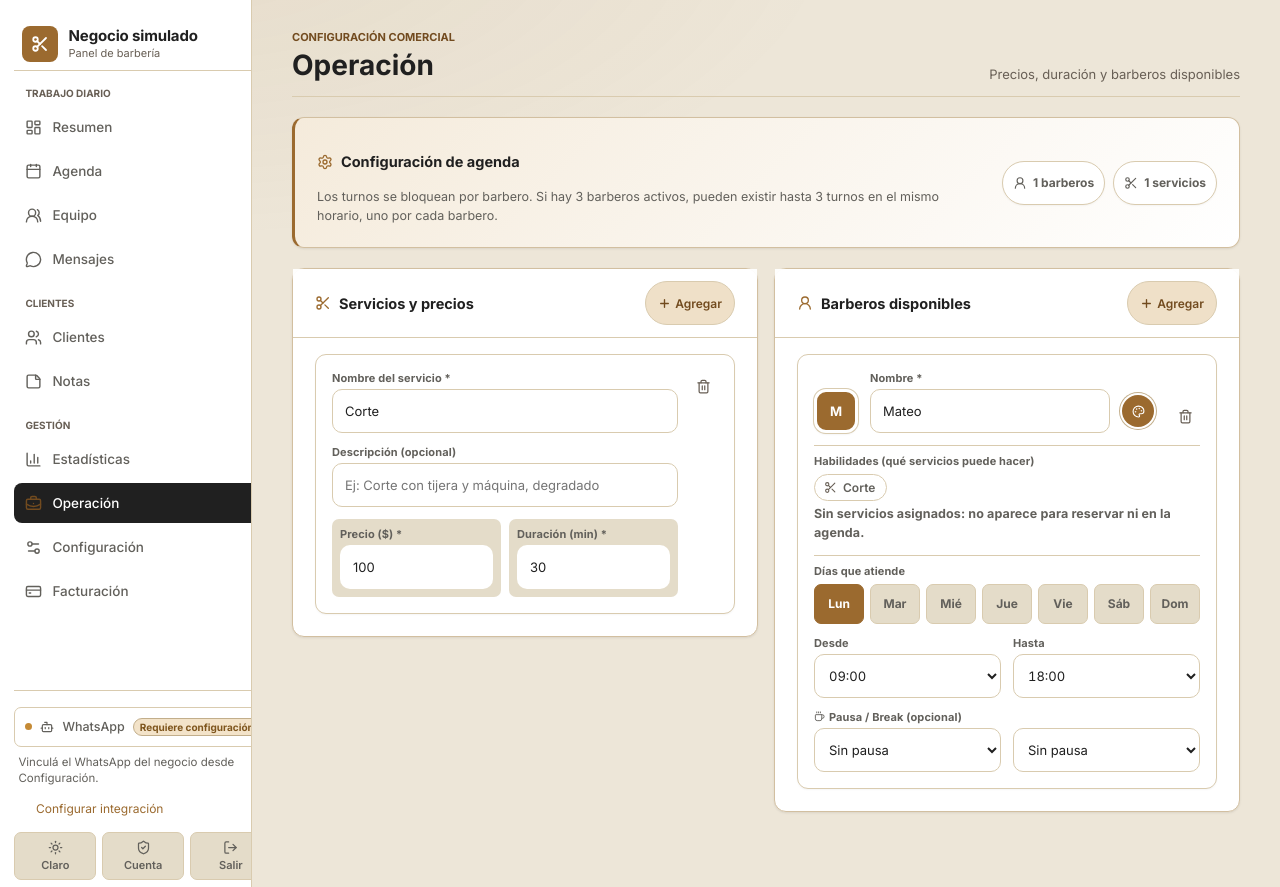
Test: Operación: rollback por campo y resultado confirmado › un nombre rechazado no revierte un precio guardado mientras tanto
The width and height of the screenshot is (1280, 887).
Replace the text in the field labelled "Nombre del servicio *" with "Nombre rechazado": (505,412) [332, 390, 678, 434]
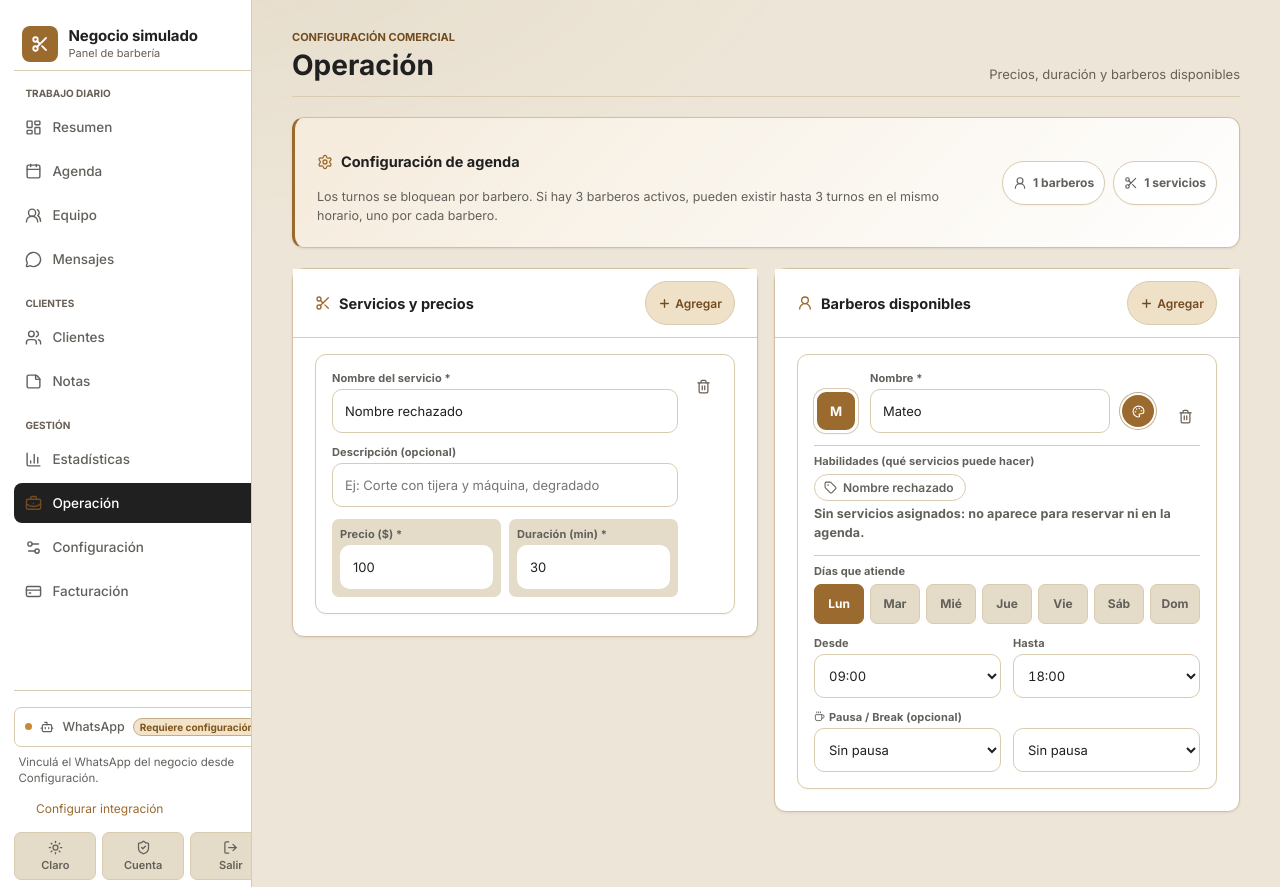
Replace the text in the number field labelled "Precio ($) *" with "300": (416,568) [340, 546, 493, 590]
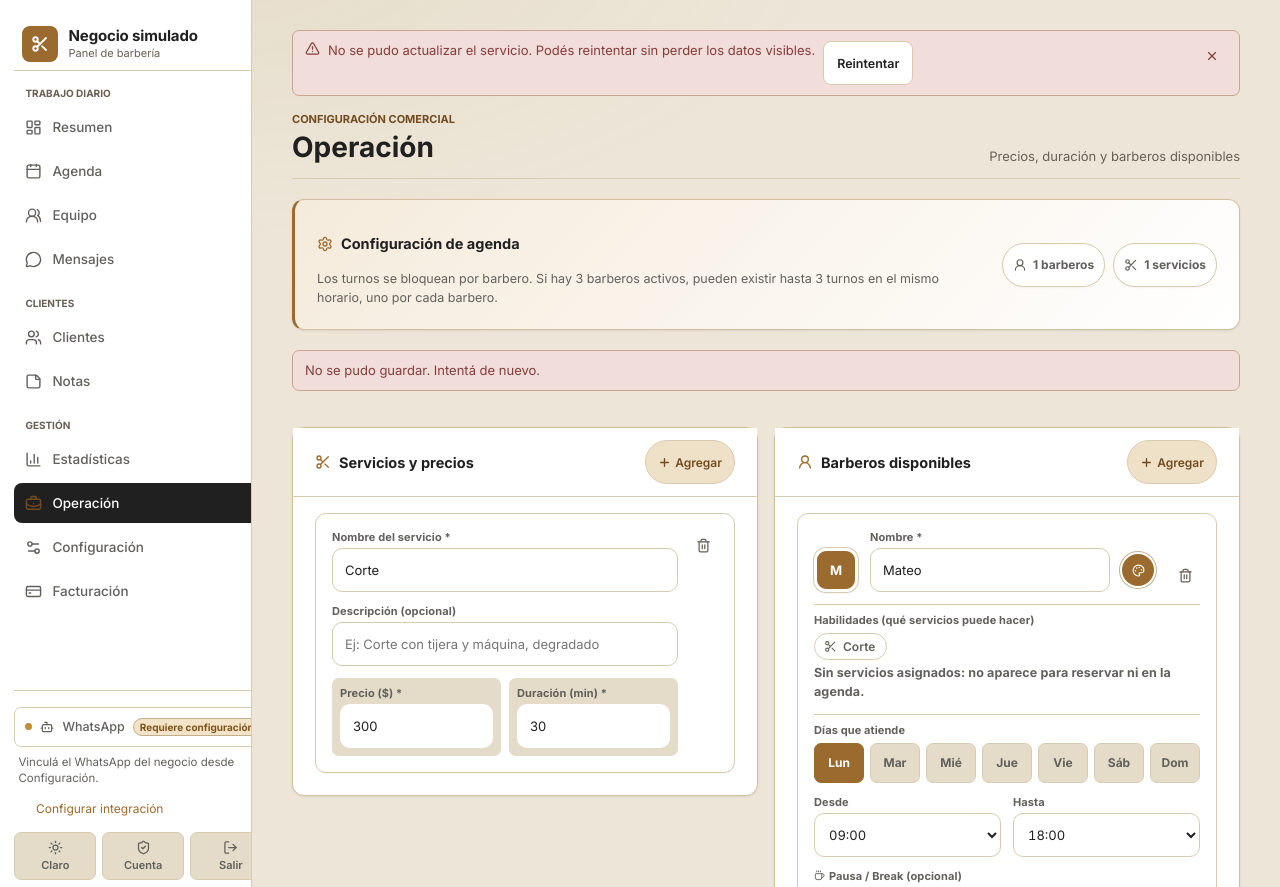
Now the field labelled "Nombre del servicio *" holds "Corte", box [332, 548, 678, 592]
